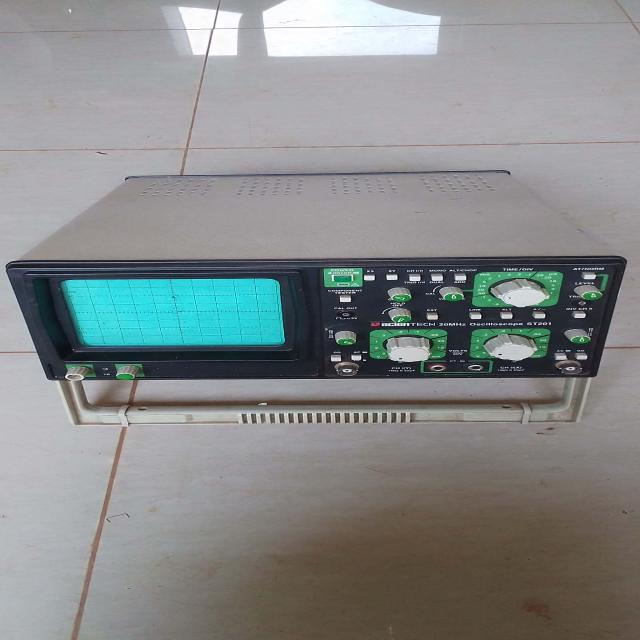Cathode Ray Oscilloscope: (22, 160, 627, 444)
